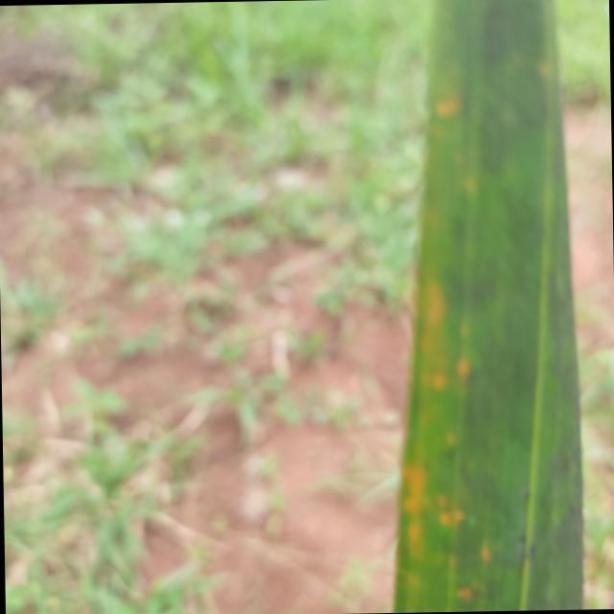Kalium: (392, 0, 585, 614)
